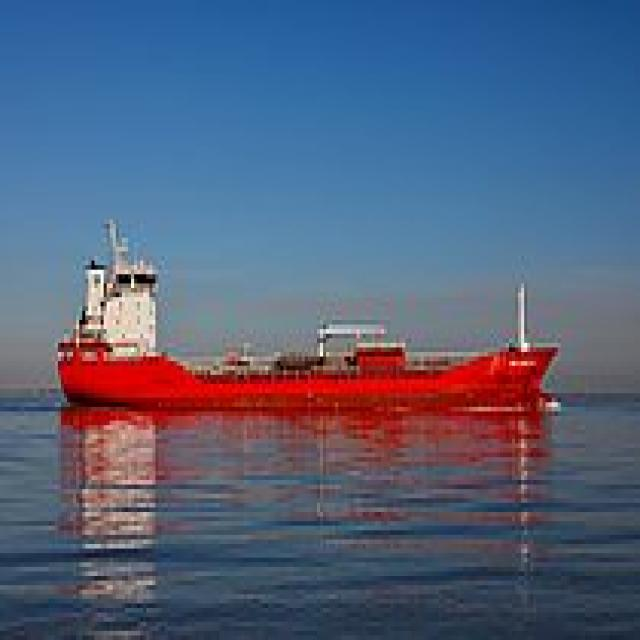Tanker: (52, 215, 558, 407)
